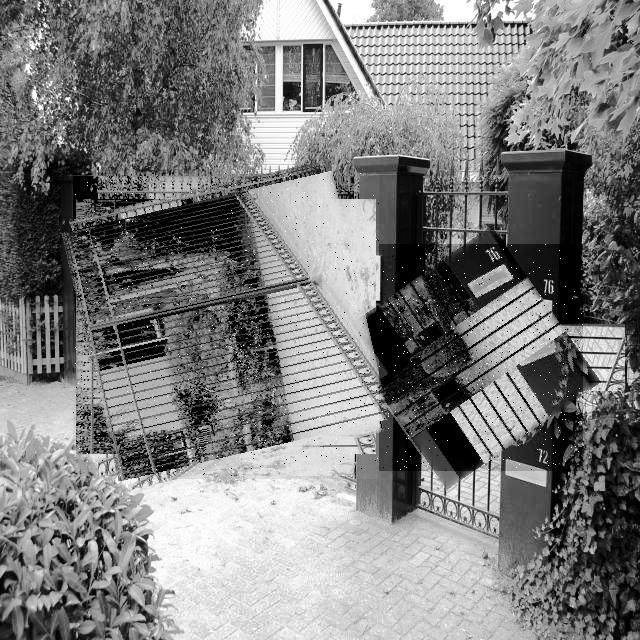fences: (73, 173, 379, 479), (355, 244, 583, 471)
